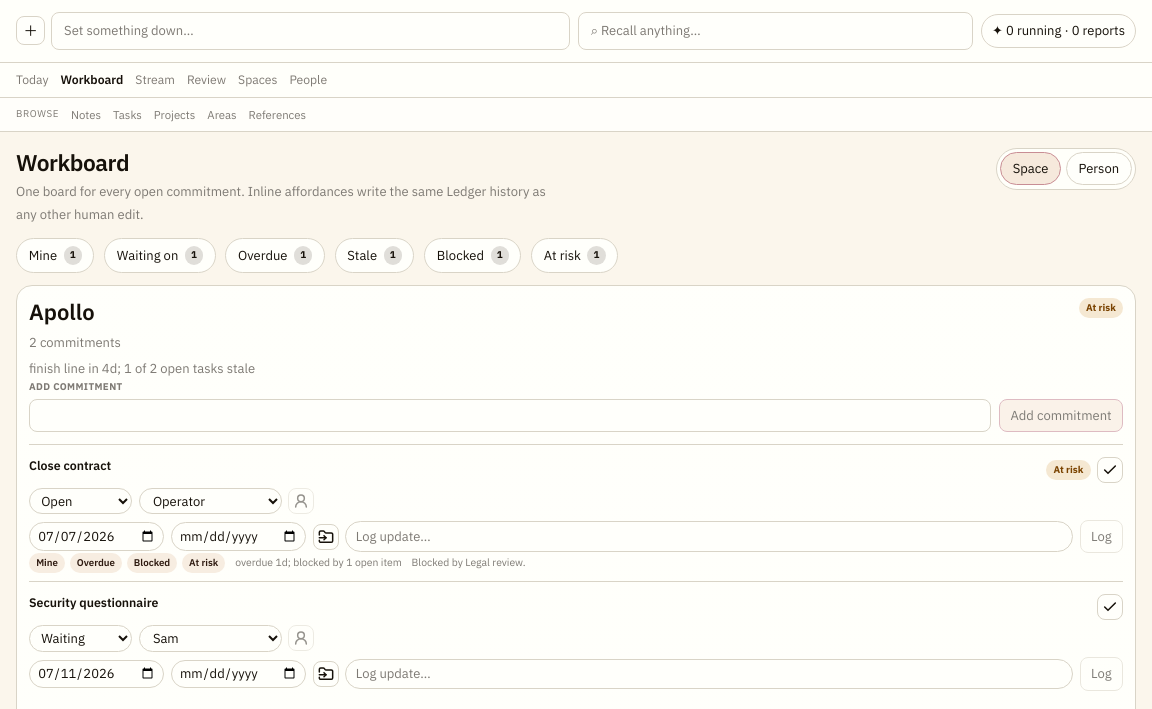
WorkboardSurface › refetches when the group toggle and filter chips change
Expected: the heading "Close contract" is shown, [29, 457, 111, 473]
Click the button "Person". click: [1099, 169]
box: [1066, 152, 1132, 185]
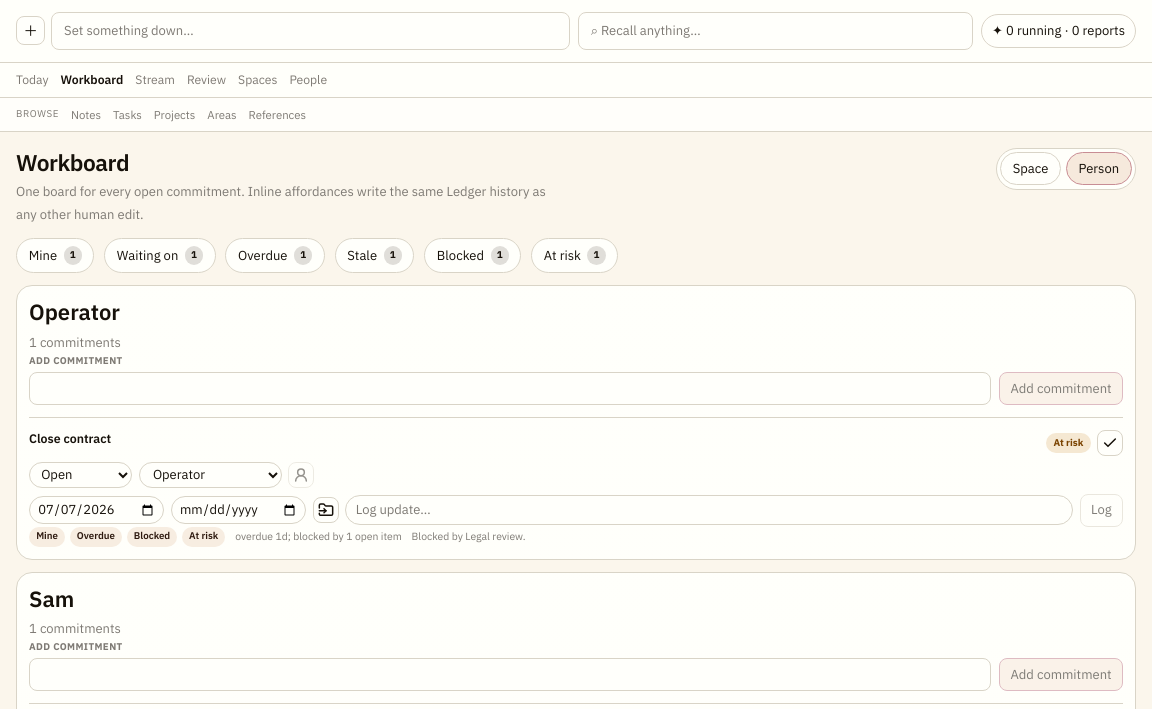
Result: the heading "Operator" is shown at [29, 298, 121, 327]
Result: the heading "Sam" is shown at [29, 584, 74, 612]
Click the button "Overdue 1". click: [275, 256]
box: [225, 238, 325, 273]
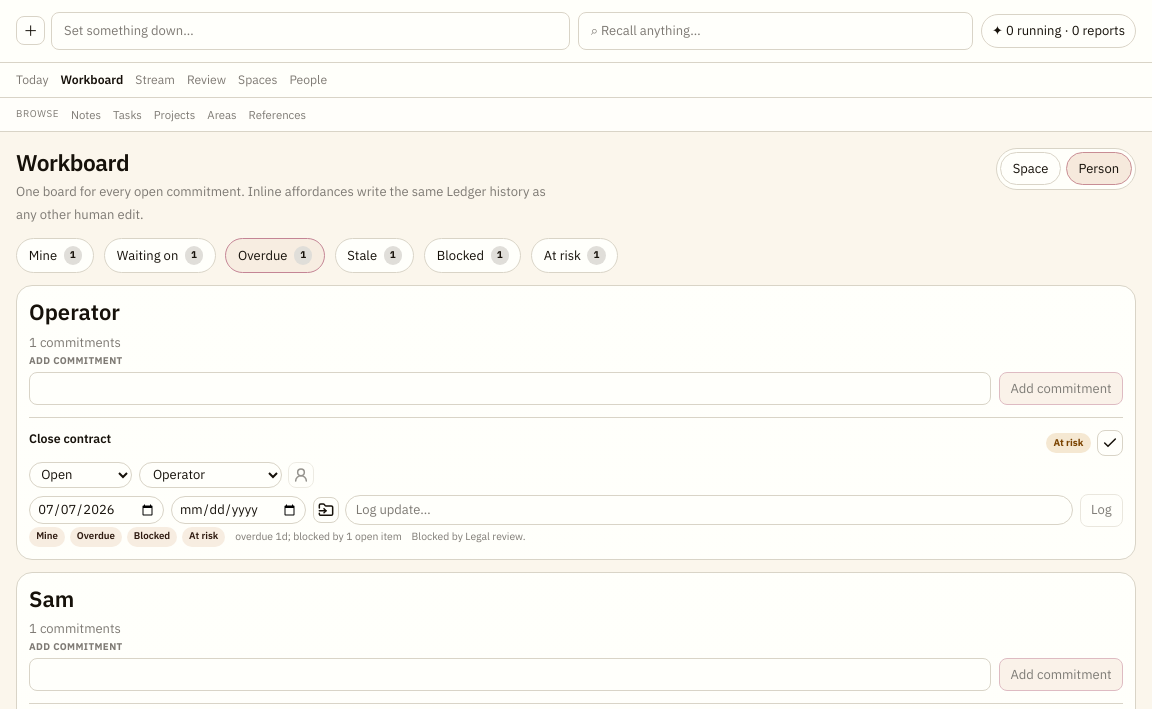
Result: the button "Overdue 1" is pressed at [225, 238, 325, 273]
Click the button "Space". click: [1030, 169]
box: [1000, 152, 1061, 185]
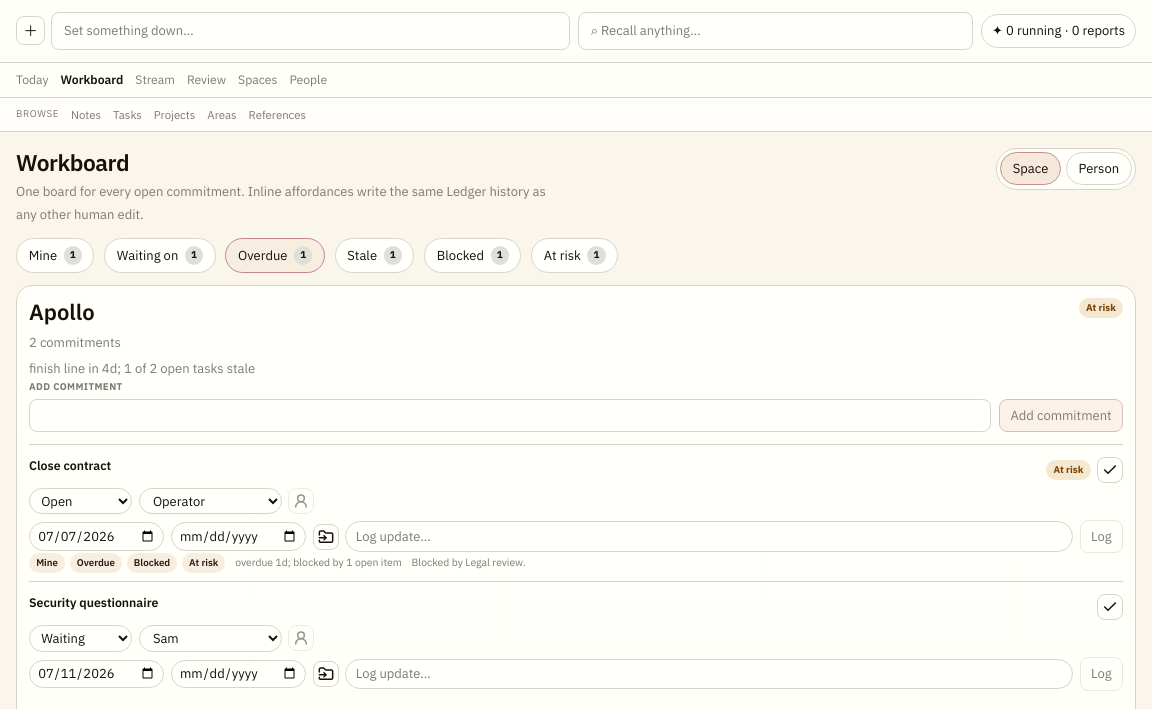
Result: the heading "Apollo" is shown at [29, 297, 94, 326]
